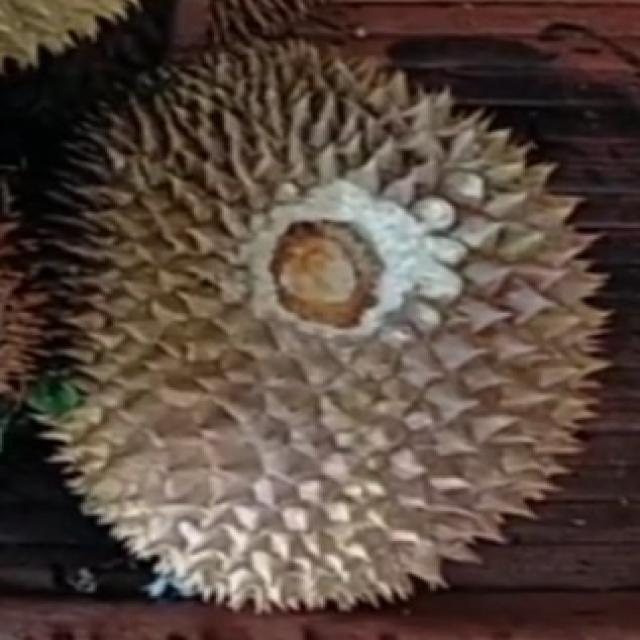defective: (12, 42, 619, 618)
